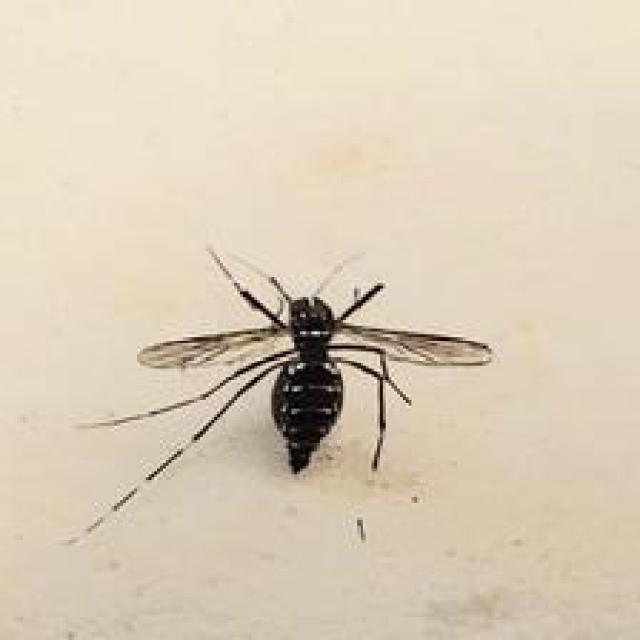Aedes albopictus: (66, 244, 494, 547)
